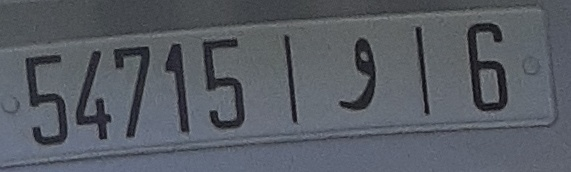1: (161, 40, 197, 135)
4: (72, 49, 114, 141)
5: (20, 51, 71, 147), (197, 36, 248, 131)
6: (465, 19, 511, 113)
7: (112, 45, 153, 139)
waw: (333, 32, 383, 115)
